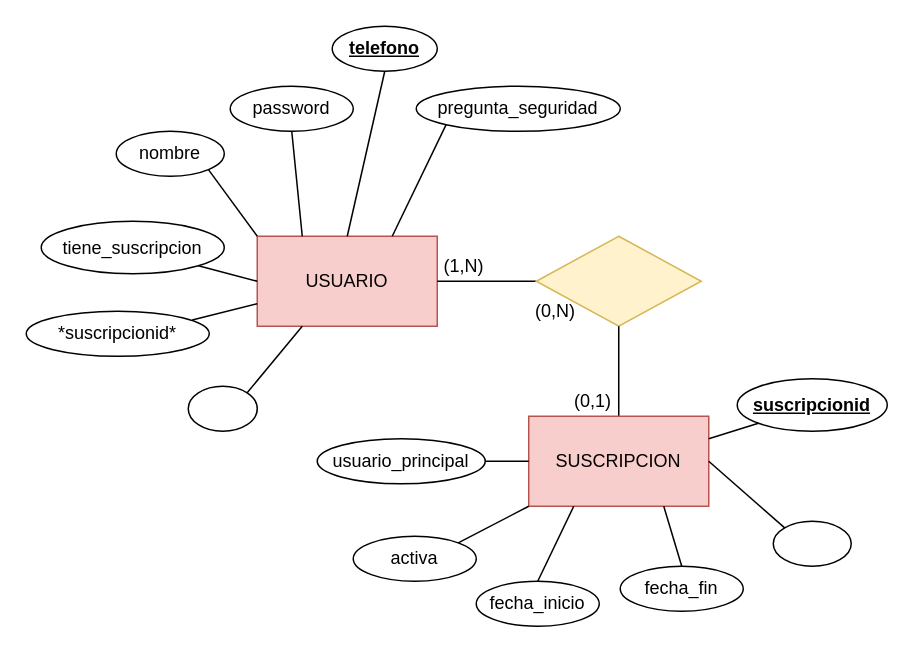
Some shapes in this 914 by 653 pixel diagram are drawn without their labels. The shapes that lost their labels are listed below. From the top down, each one's box as (x1, y1, x2, y2) in pixels, then its label:
(535, 235, 701, 326): ADQUIERE
(187, 385, 257, 431): usos
(772, 520, 851, 566): tipo
